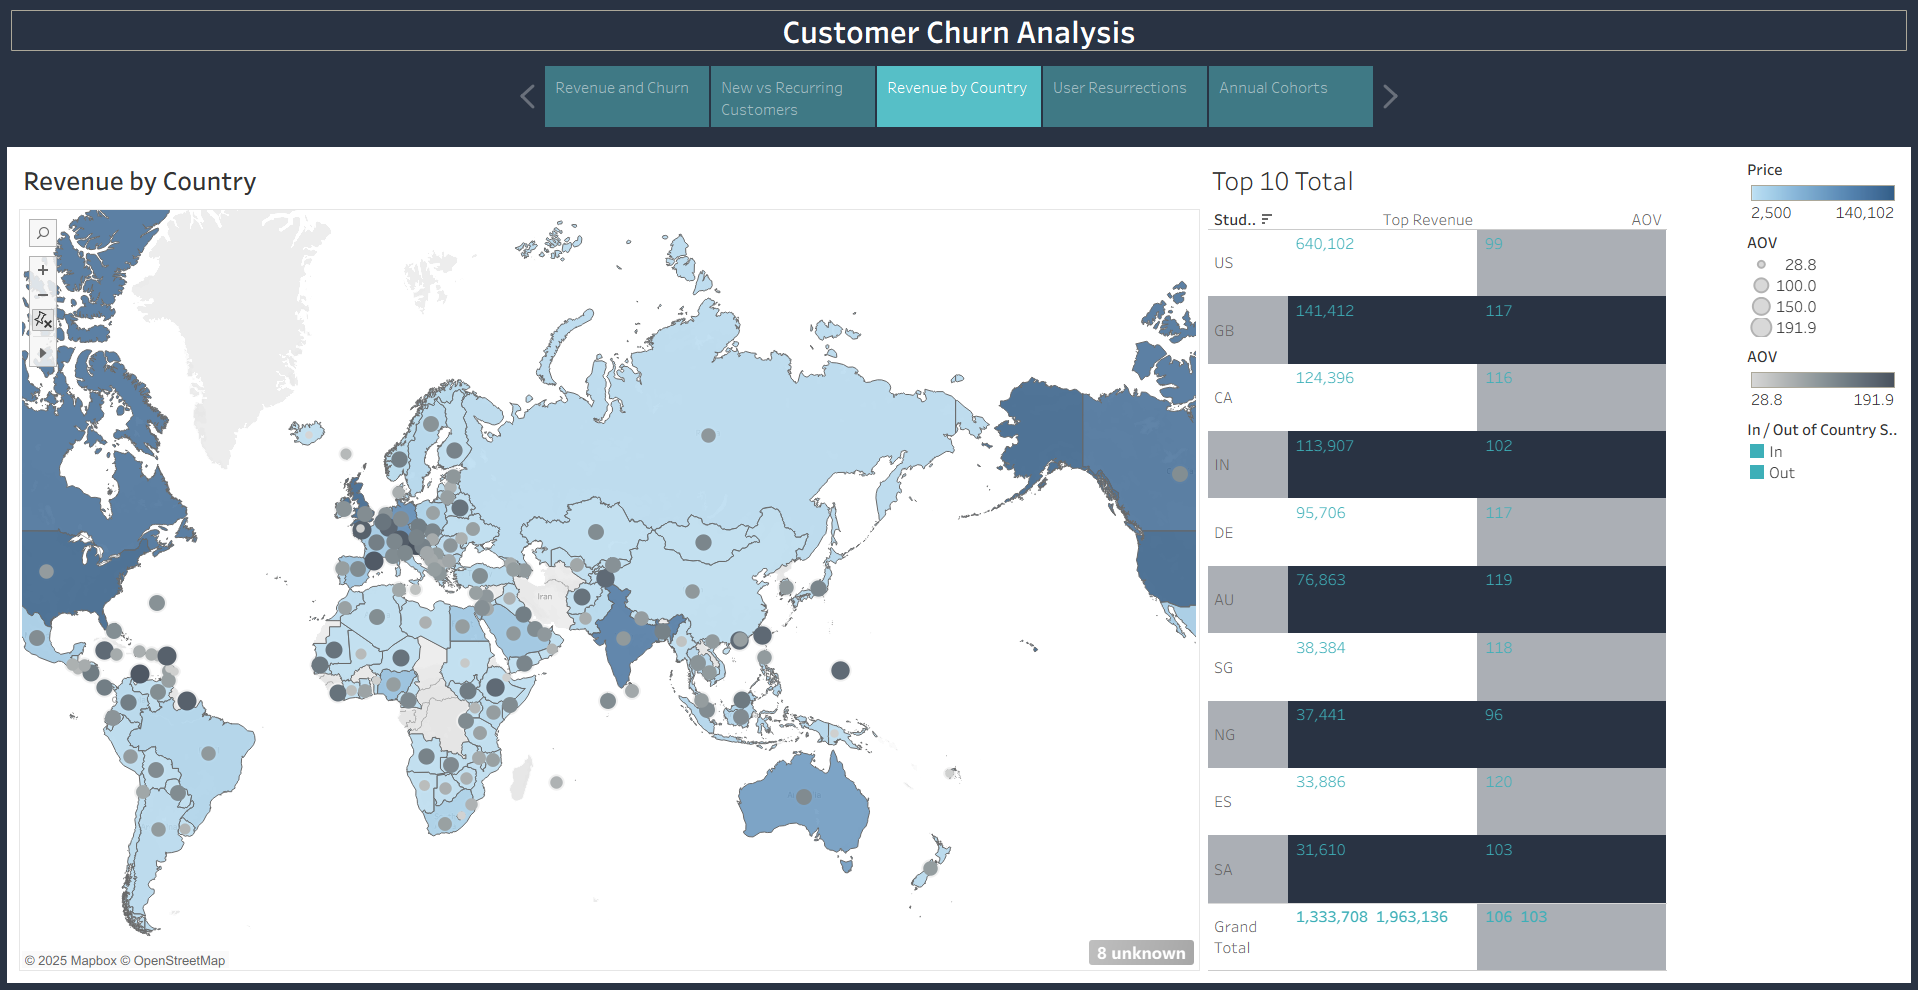

The page's visual inventory and layout, read from the dashboard file:
{"tool":"tableau","page":{"name":"Revenue Countrywise","canvas":[1000,1000],"units":"permille","ordinal":1},"visuals":[{"type":"worksheet","title":"Revenue by Country","mark":"Automatic","box":[4.8,10,615,980]},{"type":"worksheet","title":"Top 10 Total","mark":"Automatic","rows":["student_country"],"box":[619.8,10,278.8,980]},{"type":"legend","title":"Revenue by Country","param":"[federated.1yqivkp0ywk6671goxi5q0938omz].[sum:price:qk]","box":[898.6,10,96.6,91.1]},{"type":"legend","title":"Revenue by Country","param":"[federated.1yqivkp0ywk6671goxi5q0938omz].[usr:Calculation_124974943359913986:qk]","box":[898.6,101.1,96.6,142.3]},{"type":"legend","title":"Revenue by Country","param":"[federated.1yqivkp0ywk6671goxi5q0938omz].[usr:Calculation_124974943359913986:qk]","box":[898.6,243.5,96.6,91.1]},{"type":"legend","title":"Top 10 Total","param":"[federated.1yqivkp0ywk6671goxi5q0938omz].[io:Country Set:nk]","box":[898.6,334.6,96.6,89.9]}]}

Visuals, with their boxes on the dashboard's canvas, which has no fixed pixel size, in thousandths of its width and height (x1, y1, x2, y2). These are canvas units, not pixel positions in the 1918x990 screenshot, which may show the page scaled, cropped or inside an application window:
"Revenue by Country" worksheet: bbox=(5, 10, 620, 990)
"Top 10 Total" worksheet: bbox=(620, 10, 899, 990)
"Revenue by Country" legend: bbox=(899, 10, 995, 101)
"Revenue by Country" legend: bbox=(899, 101, 995, 243)
"Revenue by Country" legend: bbox=(899, 244, 995, 335)
"Top 10 Total" legend: bbox=(899, 335, 995, 424)
